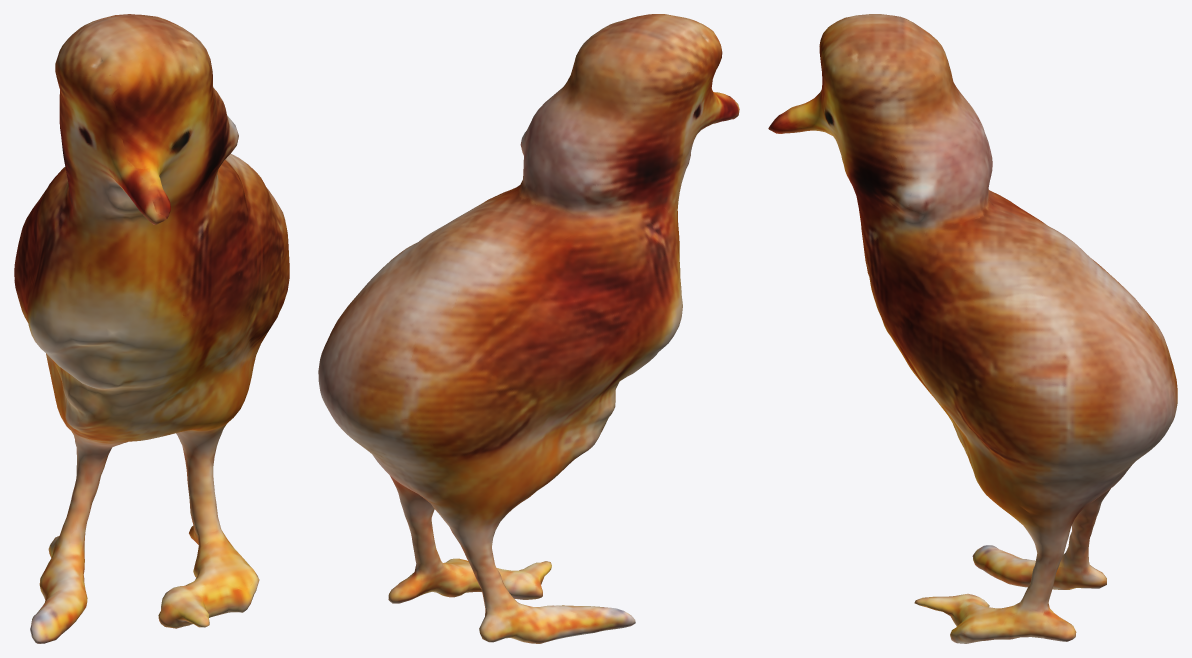
Rendered from bebe.glb.
3 renders of one model, left to right at view 1: azimuth 30°, elevation 25°; view 2: azimuth 150°, elevation 25°; view 3: azimuth 270°, elevation 25°, orthographic. The views are drawn at different scales.
Parts seen in each view (by area): view 1: mesh; view 2: mesh; view 3: mesh.
Boxes of the visible parts, box(x1,y1,x2,y2) form: mesh: box(14, 14, 289, 643); mesh: box(318, 14, 739, 643); mesh: box(768, 14, 1177, 643).
Size of the model in its own units: 0.8735 by 1.77 by 1.18.
1 material, 1 textured.
